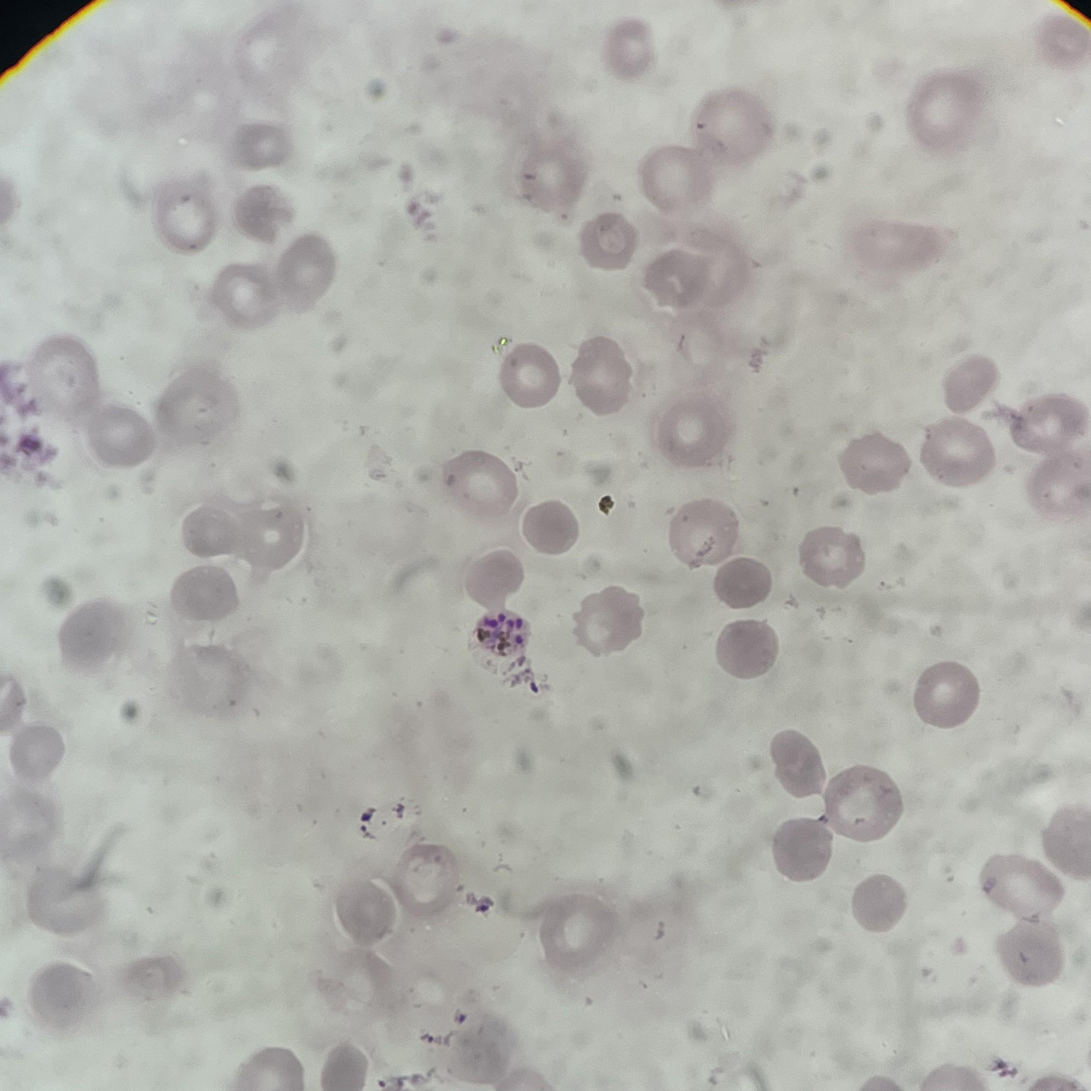Infected: (465, 606, 533, 681)
Uninfected: (822, 764, 902, 844), (56, 594, 132, 677), (640, 141, 718, 221), (443, 442, 516, 521), (385, 843, 462, 917), (567, 586, 642, 661), (150, 179, 223, 255), (670, 496, 742, 573), (980, 851, 1064, 917), (537, 891, 608, 966), (237, 488, 306, 564), (914, 418, 994, 483), (277, 235, 341, 315), (694, 93, 767, 161), (569, 333, 630, 413), (912, 658, 977, 731), (838, 430, 907, 497), (211, 261, 281, 326), (166, 562, 245, 618), (994, 917, 1065, 979), (333, 875, 402, 937), (521, 496, 585, 561), (794, 526, 863, 586), (1040, 803, 1091, 884), (766, 728, 827, 795), (88, 406, 148, 474), (774, 815, 834, 883), (501, 345, 560, 410), (940, 354, 1000, 415), (231, 183, 295, 240), (463, 548, 521, 610), (851, 873, 909, 934), (718, 622, 782, 677), (581, 209, 636, 273), (638, 253, 702, 306), (184, 502, 242, 558), (712, 556, 770, 609)
